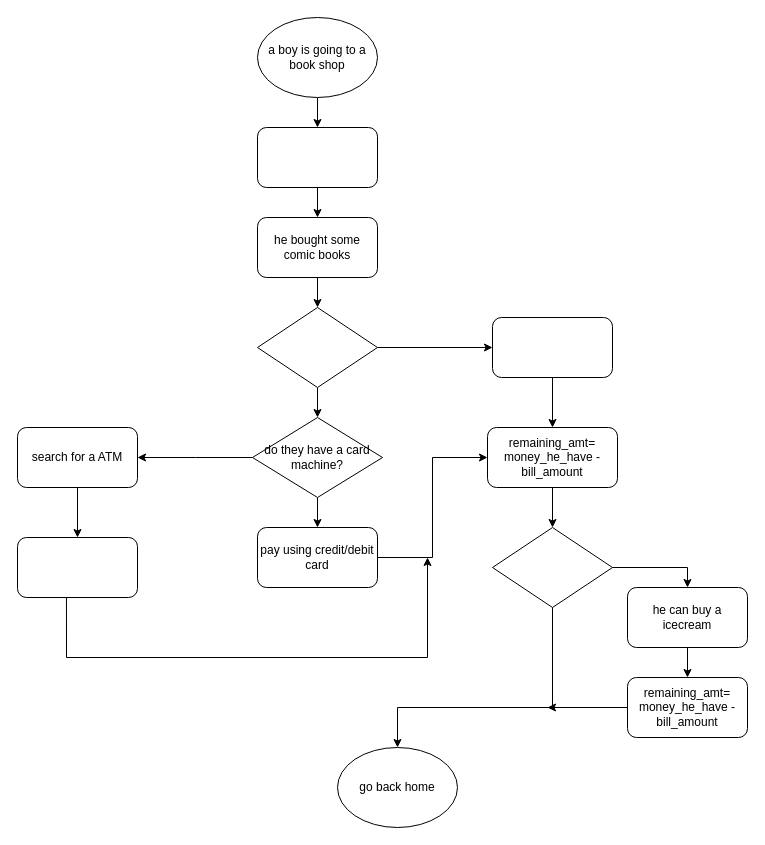
This 765x845 diagram has some shape labels left out. The centre of each missing label's shape, as x and y in pixels:
"if bill_amount>money he_have" goes at (317,347).
"if remaining_amt>30" goes at (552,567).
"money_he_have=1000" goes at (317,157).
"pay the bill" goes at (552,347).
"withdraw money from the ATM and pay the bill" goes at (77,567).
